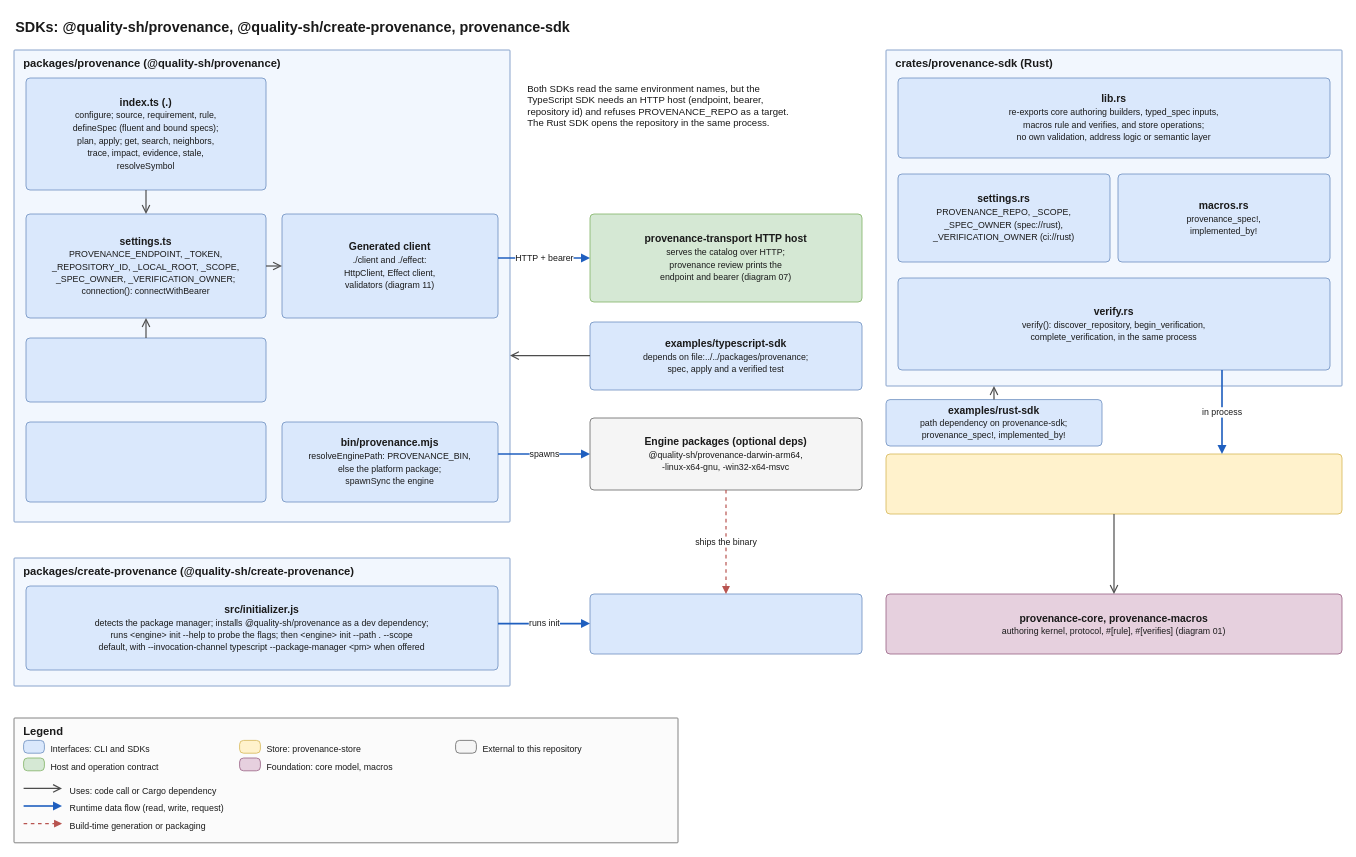
The diagram is 1356 pixels wide and 857 high, and some of its shapes have lost their labels. Here are the shapes that lost their labels. From the top down, the centre of each, then its label:
At (145,369): "verification.ts runVerification: beginVerification, then completeVerification".
At (145,461): "rules.ts (./rules) verifies(): inert helper that the scanner finds".
At (1113,483): "provenance-store operations typed specs, verification runs (diagram 02)".
At (725,623): "provenance (native CLI) diagrams 05 and 06".
